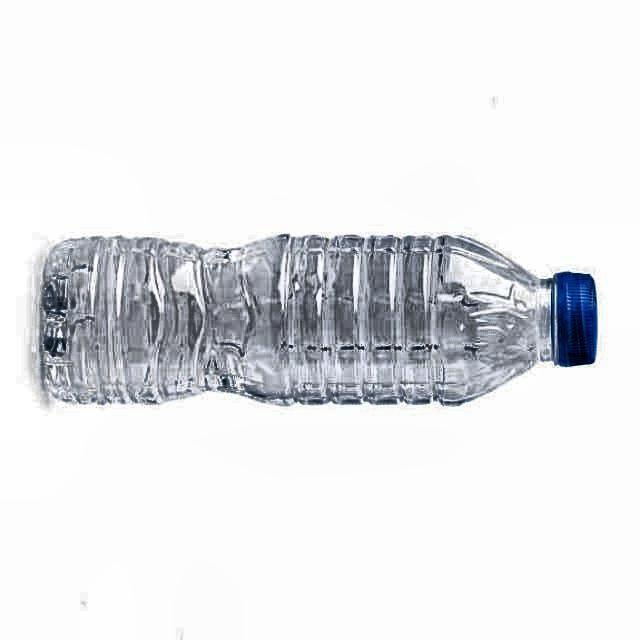plastic: (42, 235, 598, 404)
